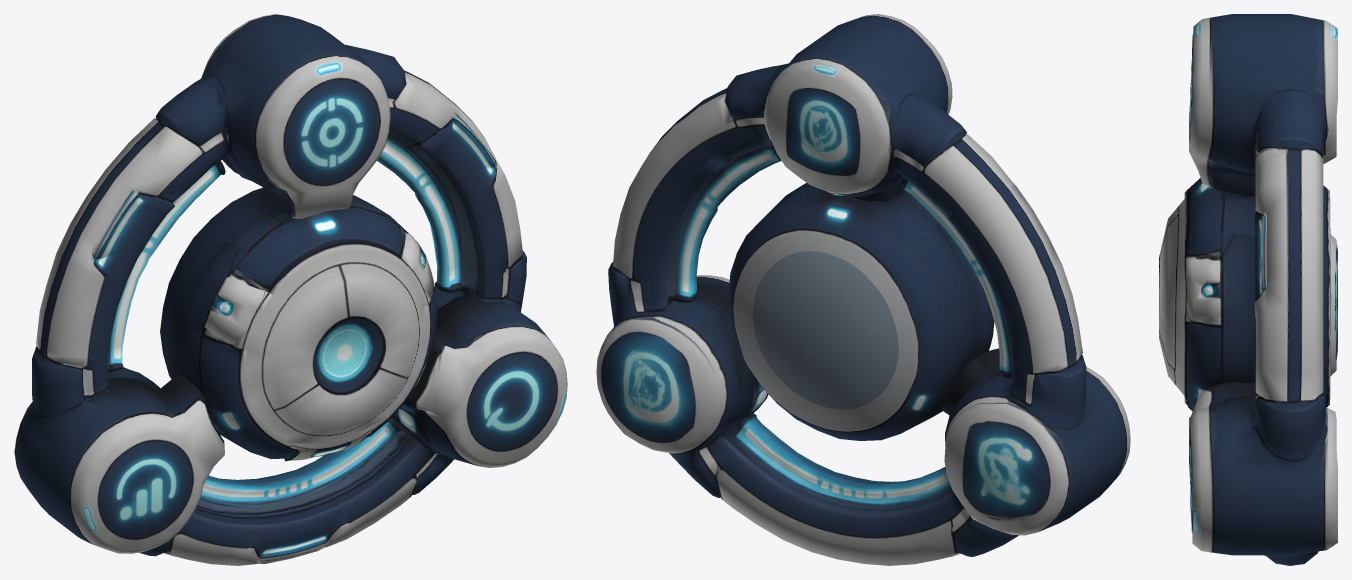
Rendered from asset_pack_item_glb-vd71zjj4b8bb5cr2tyq326jcjn8anp5x-3-ks7ddb2g5emht3w3fj7beepann8anbag.glb.
The picture shows the model from 3 angles, left to right: view 1: azimuth 30°, elevation 25°; view 2: azimuth 150°, elevation 25°; view 3: azimuth 270°, elevation 25°; orthographic projection. The views are drawn at different scales.
Parts seen in each view (by area): view 1: Recovery Compass Orbit; view 2: Recovery Compass Orbit; view 3: Recovery Compass Orbit.
Boxes of the visible parts, <box> form: Recovery Compass Orbit: <box>14,14,567,565</box>; Recovery Compass Orbit: <box>596,14,1130,565</box>; Recovery Compass Orbit: <box>1159,14,1337,565</box>.
Bounding box in the file's own units: 0.9863 × 0.998 × 0.3145.
1 material, 1 textured.
